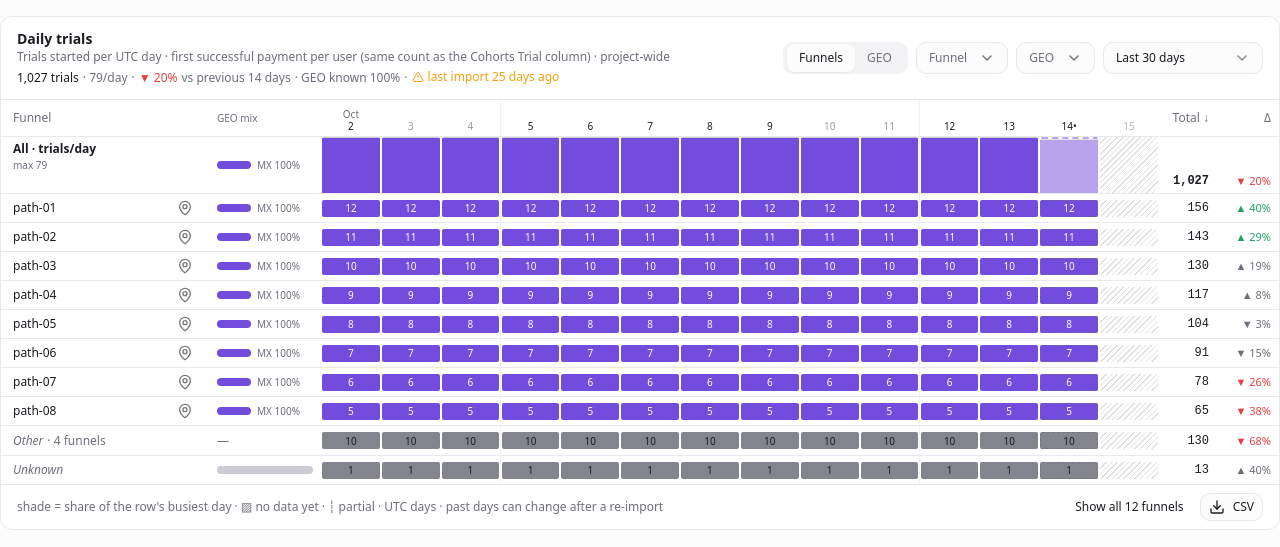
Test: week paths › 'Last 180 days (weekly)' asks for week buckets and draws the week-grain answer
The image size is (1280, 547).
What coordinates should you click on to do the following:
click the dropdown
I would click on:
 (1183, 58)
Its box is 1103,42 -> 1263,74.
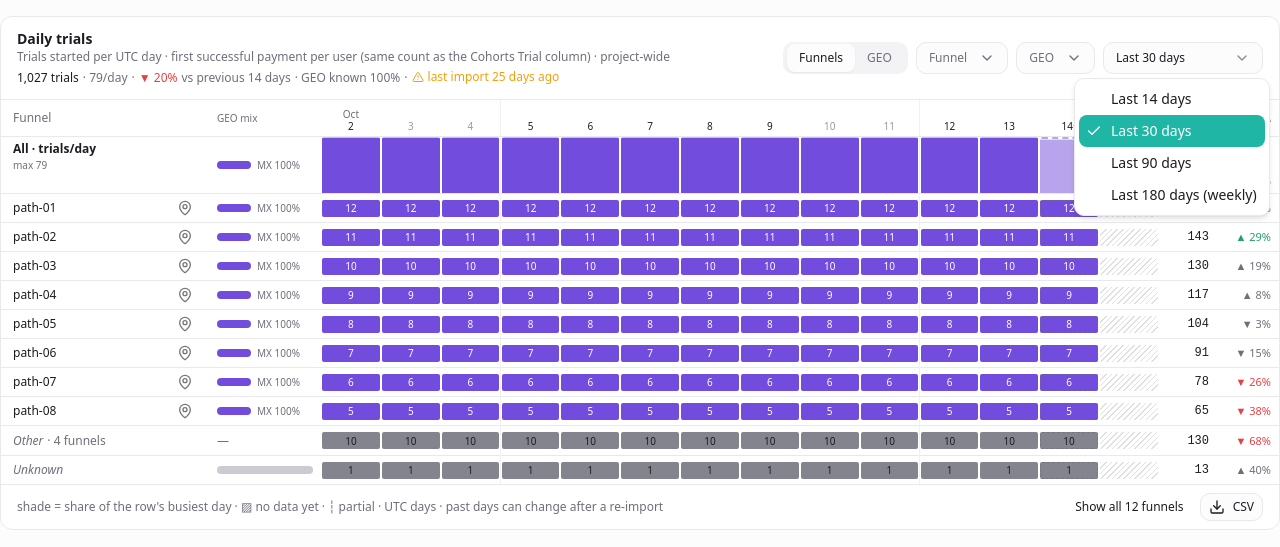
What coordinates should you click on to do the following:
click the option "Last 180 days (weekly)"
I would click on:
 (1184, 194)
Its box is 1111,185 -> 1257,204.
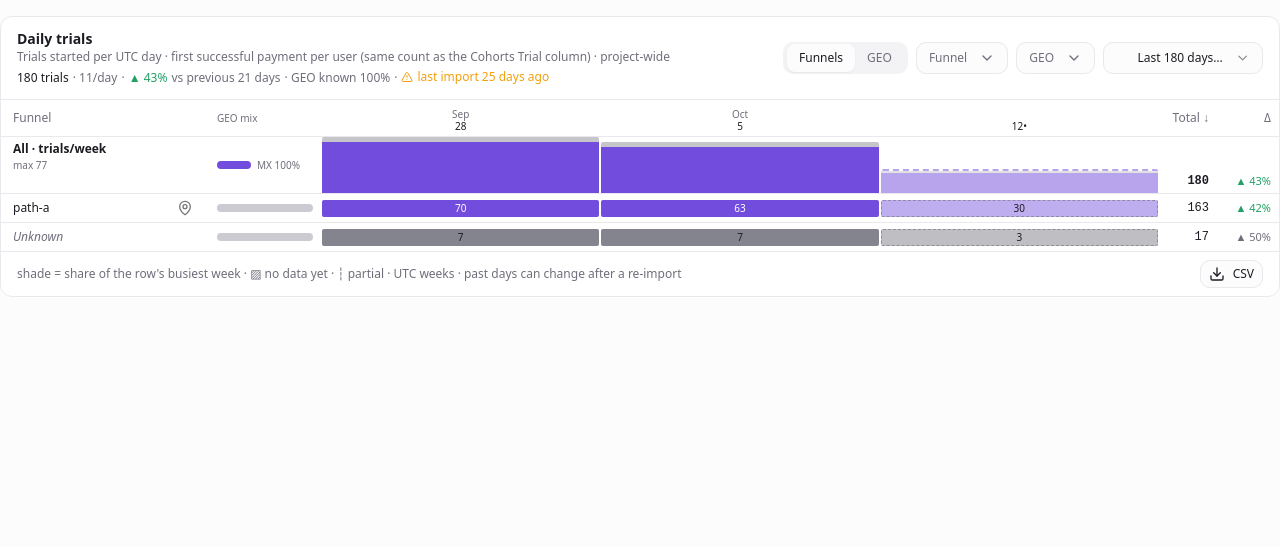
Result: the text "All · trials/week" is shown at 13,140 -> 106,157
// A pinned week names its leaders but never links to one Cohorts day.
What coordinates should you click on to do the following:
click the button "Oct 5"
I would click on:
 (740, 118)
Its box is 600,100 -> 880,136.
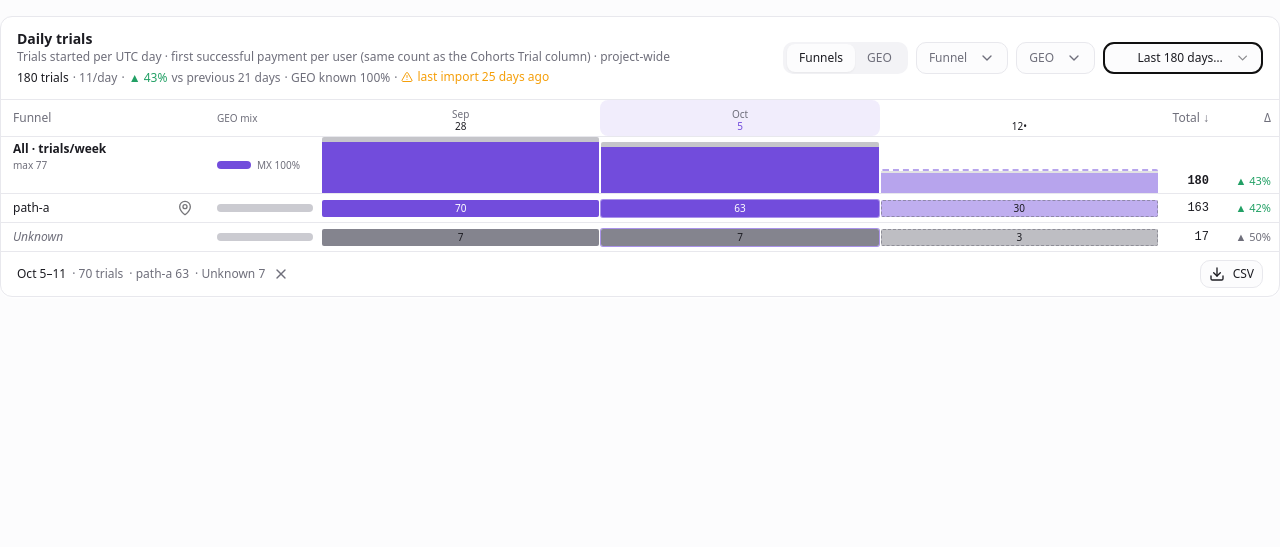
Result: the element with test id "trials-pinned-day" shows "Oct 5–11" at 17,265 -> 66,282
Result: the element with test id "trials-pinned-day" shows "path-a 63" at 17,264 -> 291,284
